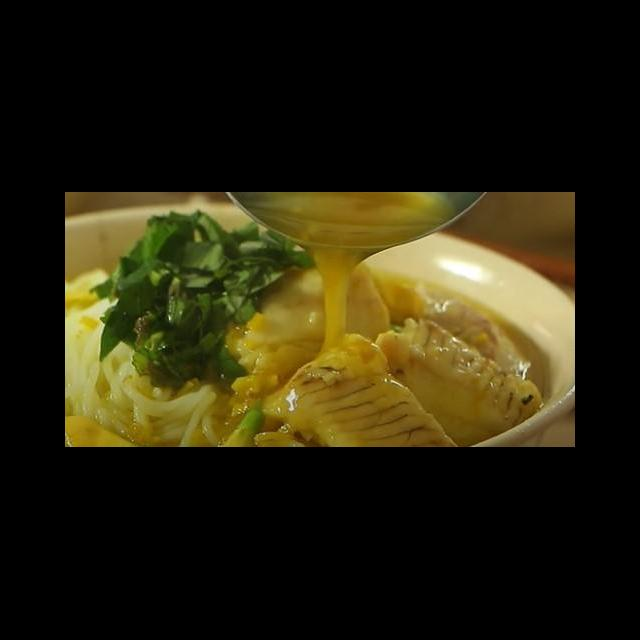bun: (66, 378, 217, 446)
bun ca: (78, 210, 567, 437)
ca: (265, 332, 461, 448), (374, 318, 540, 422)
rau ram: (90, 206, 320, 400)
